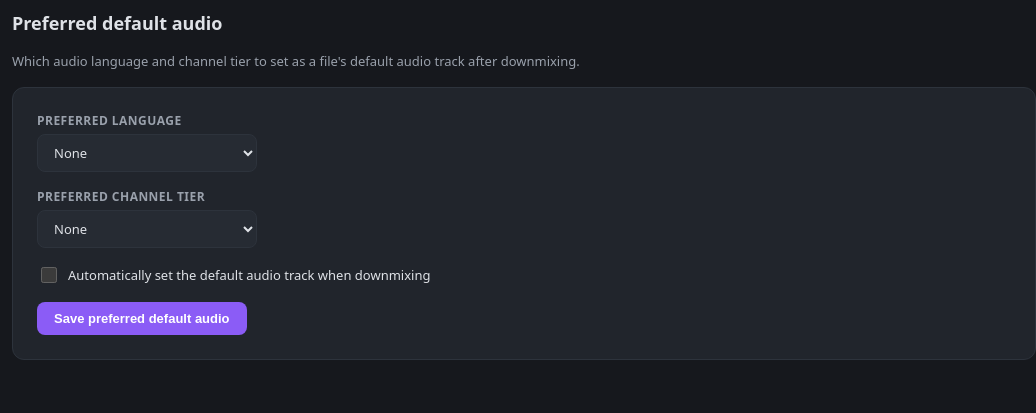
DefaultAudioSection › surfaces an API error from a failed save
This screenshot has width=1036, height=413.
Expected: the dropdown labelled "Preferred language" is shown, [37, 134, 257, 172]
Click the button "Save preferred default audio". click: (142,319)
box: [37, 302, 247, 335]
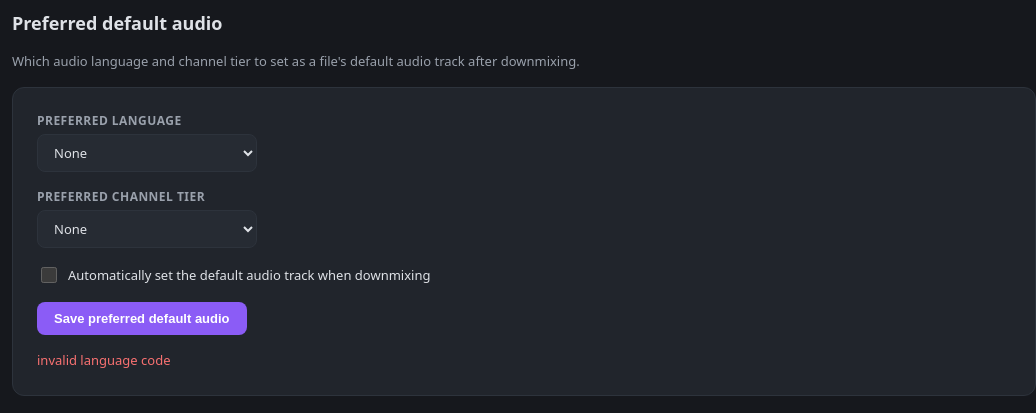
Now the text "invalid language code" is shown, box [37, 351, 170, 369]
